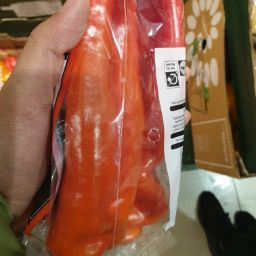Jalapeno pepper: (36, 3, 163, 256)
